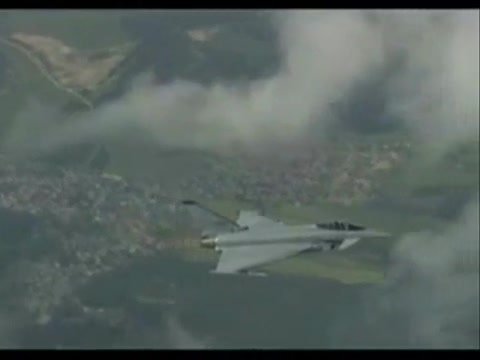aeroplane: (197, 208, 395, 277)
